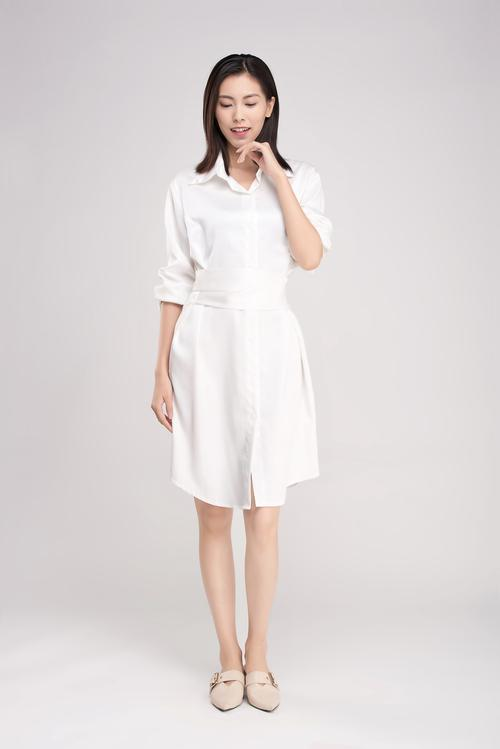up: (141, 43, 354, 727)
